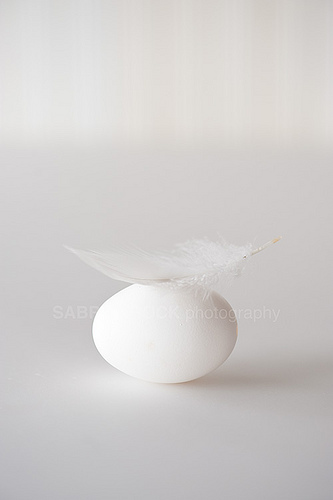egg: (91, 282, 239, 387)
